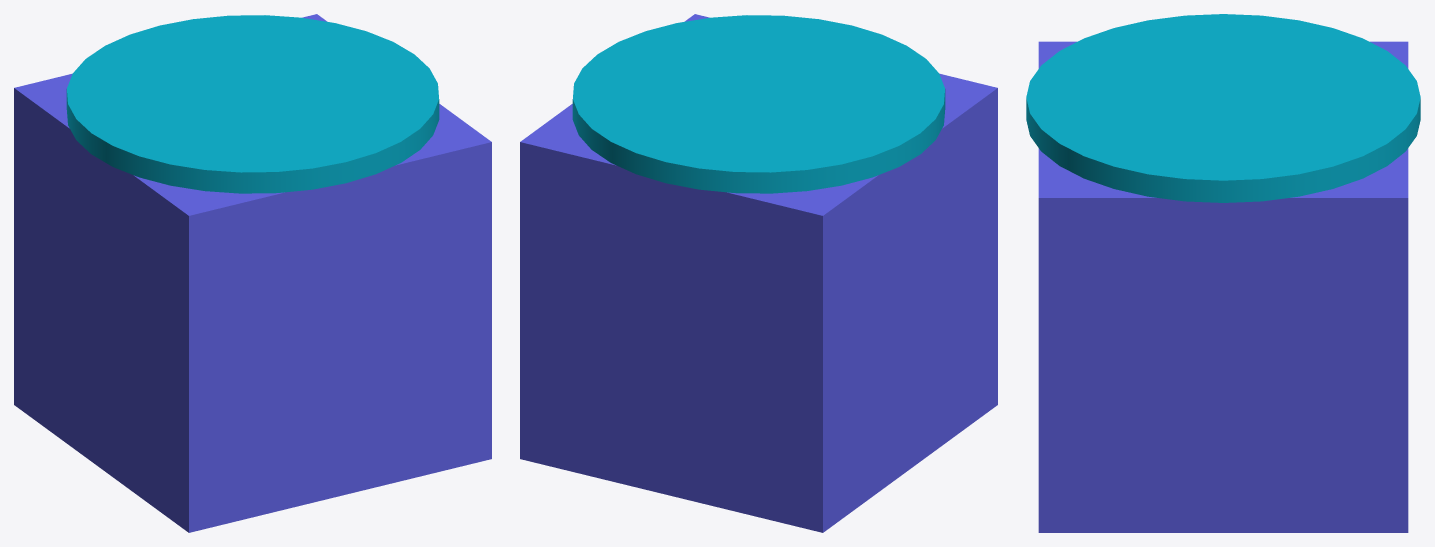
File: example.glb
The picture shows the model from 3 angles, left to right: view 1: azimuth 30°, elevation 25°; view 2: azimuth 150°, elevation 25°; view 3: azimuth 270°, elevation 25°; orthographic projection. The views are drawn at different scales.
Parts seen in each view (by area): view 1: MainBody, AccentPlate; view 2: MainBody, AccentPlate; view 3: MainBody, AccentPlate.
Part boxes in pixels (box(x1,y1,x2,y2)): MainBody: box(14, 14, 491, 532); AccentPlate: box(66, 15, 439, 193); MainBody: box(520, 14, 997, 532); AccentPlate: box(572, 15, 945, 193); MainBody: box(1038, 41, 1408, 532); AccentPlate: box(1026, 14, 1420, 202).
Size of the model in its own units: 1.6 by 1.6 by 1.6.
